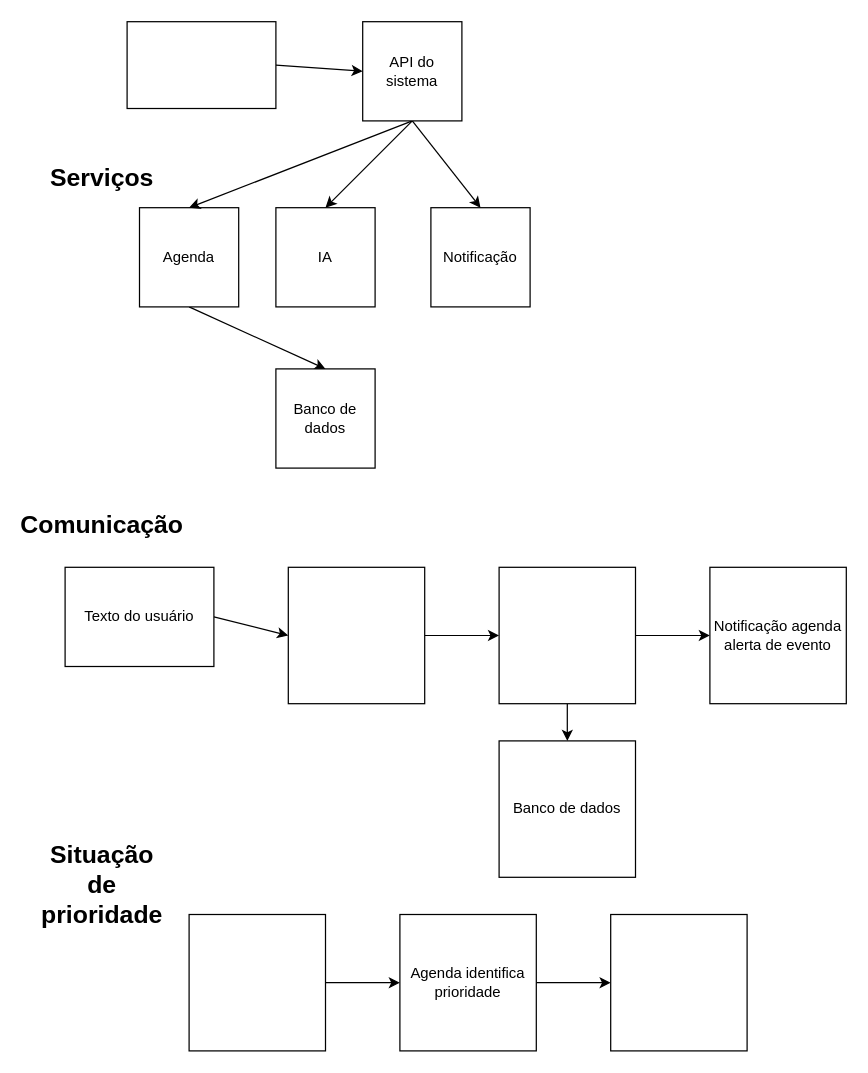
The diagram is 868 pixels wide and 1073 high, and some of its shapes have lost their labels. The shapes that lost their labels are listed below. From the top down, each one's centre as x and y in pixels, then its label:
At (x=201, y=64): "Usuário".
At (x=356, y=635): "Interpretação da IA".
At (x=567, y=635): "Agenda cria evento".
At (x=257, y=982): "Evento urgente criado".
At (x=678, y=982): "Notificação evnia múltiplos alertas".
